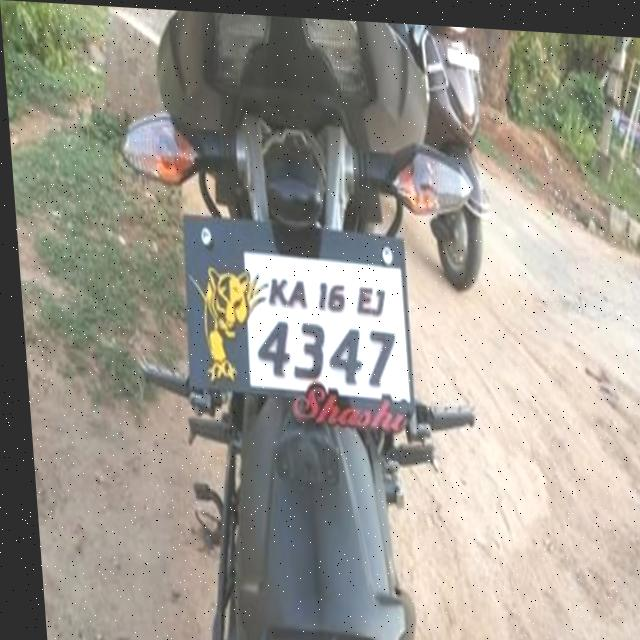plate: (172, 202, 412, 410)
